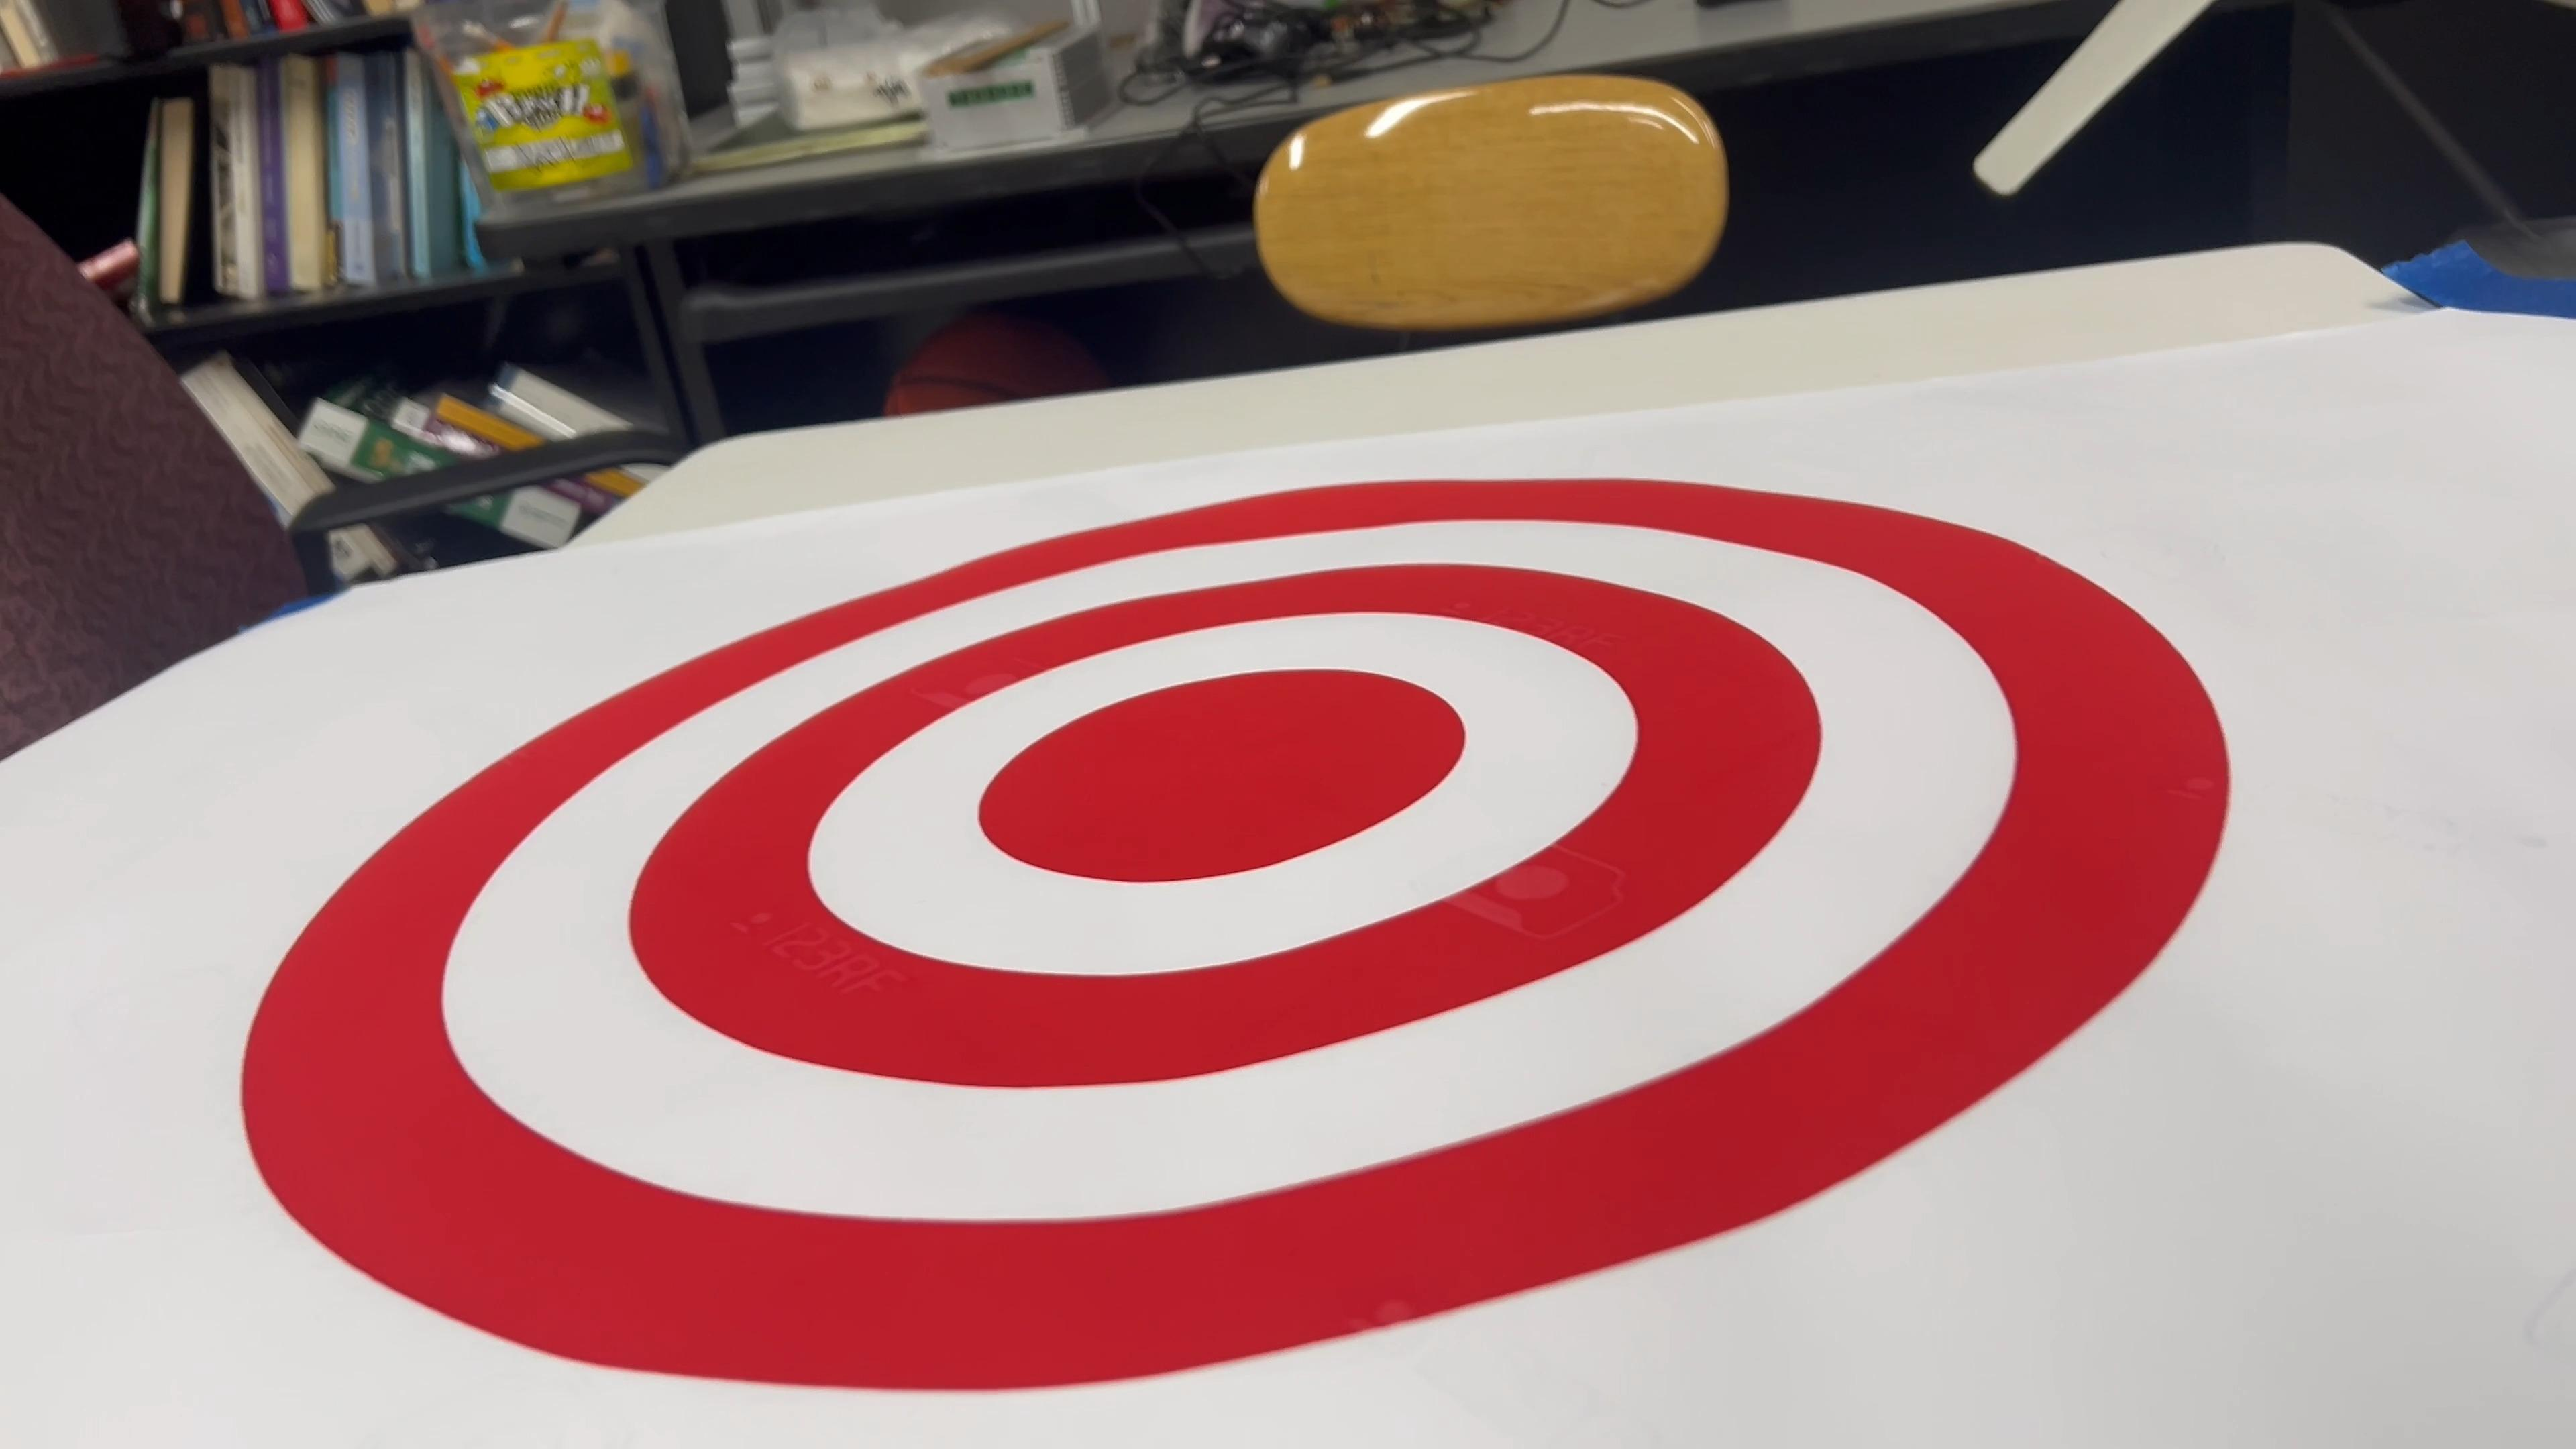target_red: (216, 437, 2295, 1449)
